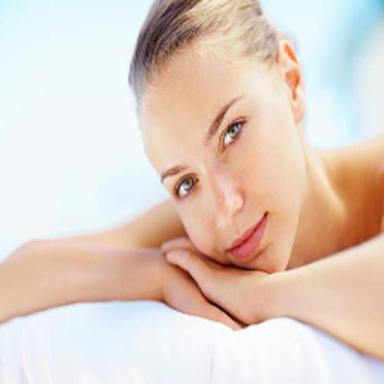normal skin: (0, 40, 384, 360)
